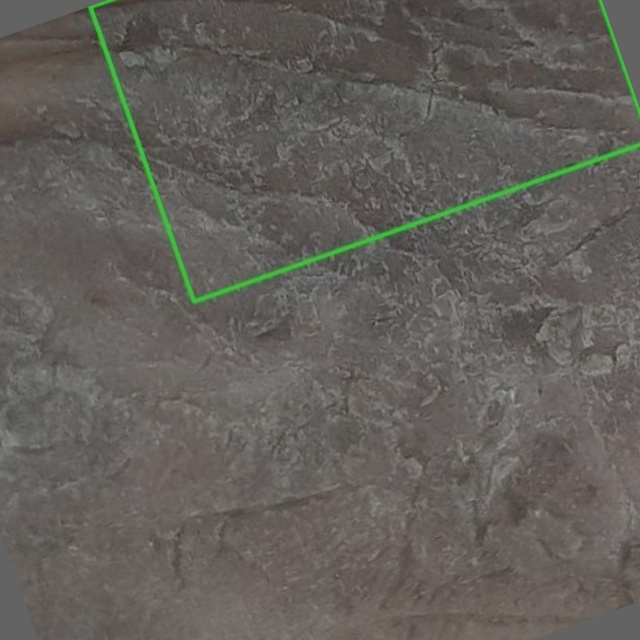Eczema: (90, 0, 639, 301)
